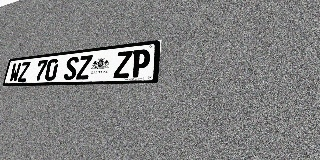plate: (2, 39, 162, 86)
